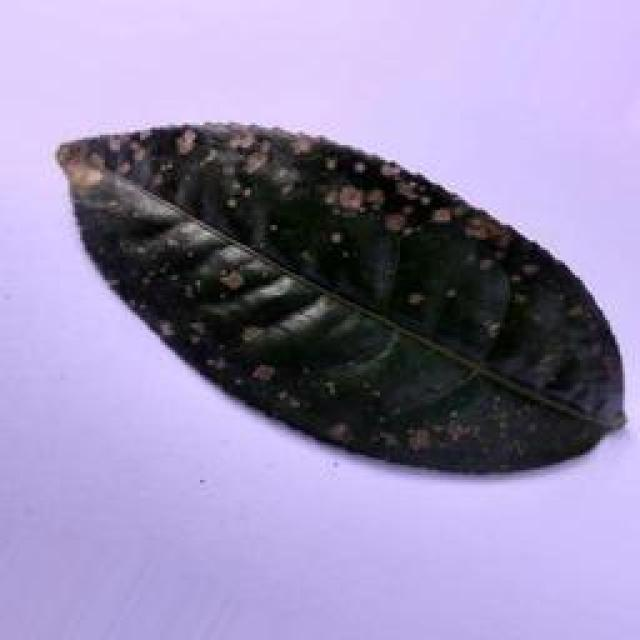Algal Leaf Spot: (57, 117, 640, 490)
